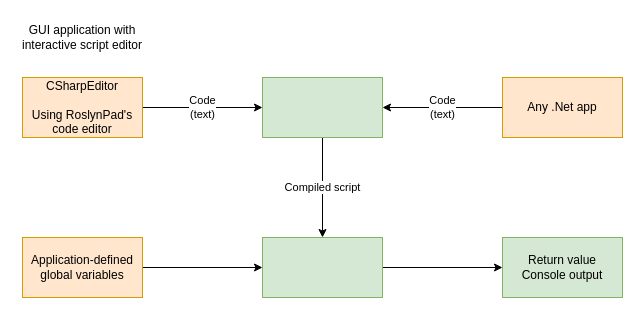
The diagram is 640 pixels wide and 315 high, and some of its shapes have lost their labels. Here are the shapes that lost their labels. From the top down, the centre of each, then its label:
At pixel 322 107: "Script compiler Using Microsoft's CSharpScript".
At pixel 322 267: "Script runner".
